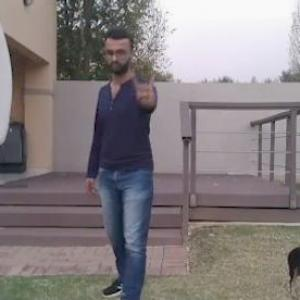takeoff-hand: (130, 60, 166, 111)
